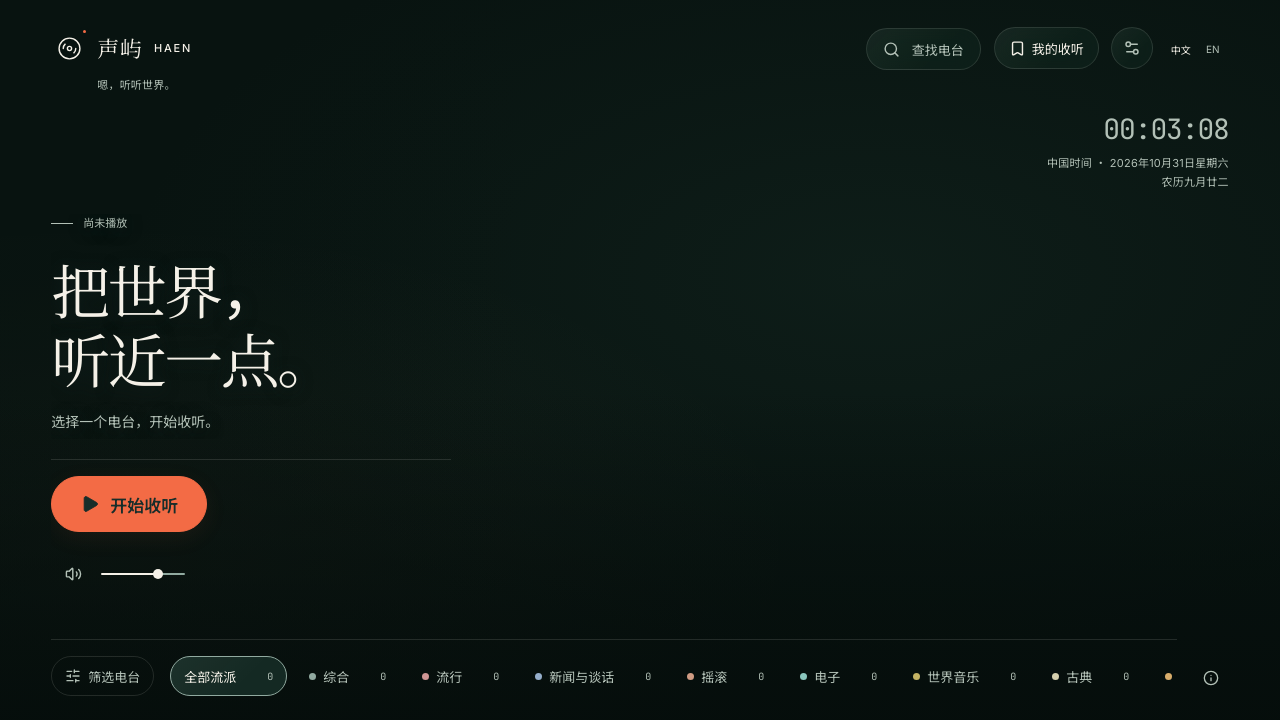
Test case: radio application entry › survives strict lifecycle replay, loads stations without autoplay and preserves language
Click the button "查找电台" at x=923, y=49, box [866,28,981,70]
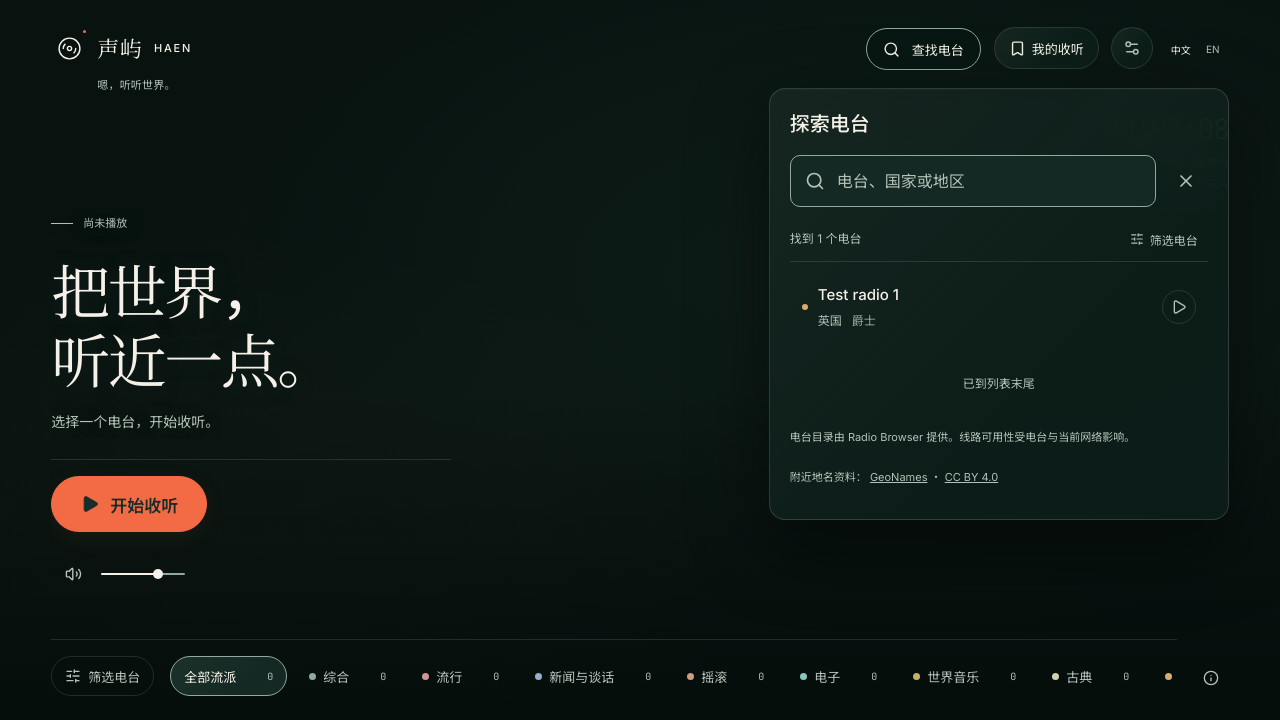
expect the message reads "尚未播放": met, box [83,216,127,230]
expect the button with aria-label "收听 Test radio 1 英国 爵士" is shown: met, box [790,266,1208,348]
Click the button named "关闭面板" at x=1186, y=181, box [1164,159,1208,203]
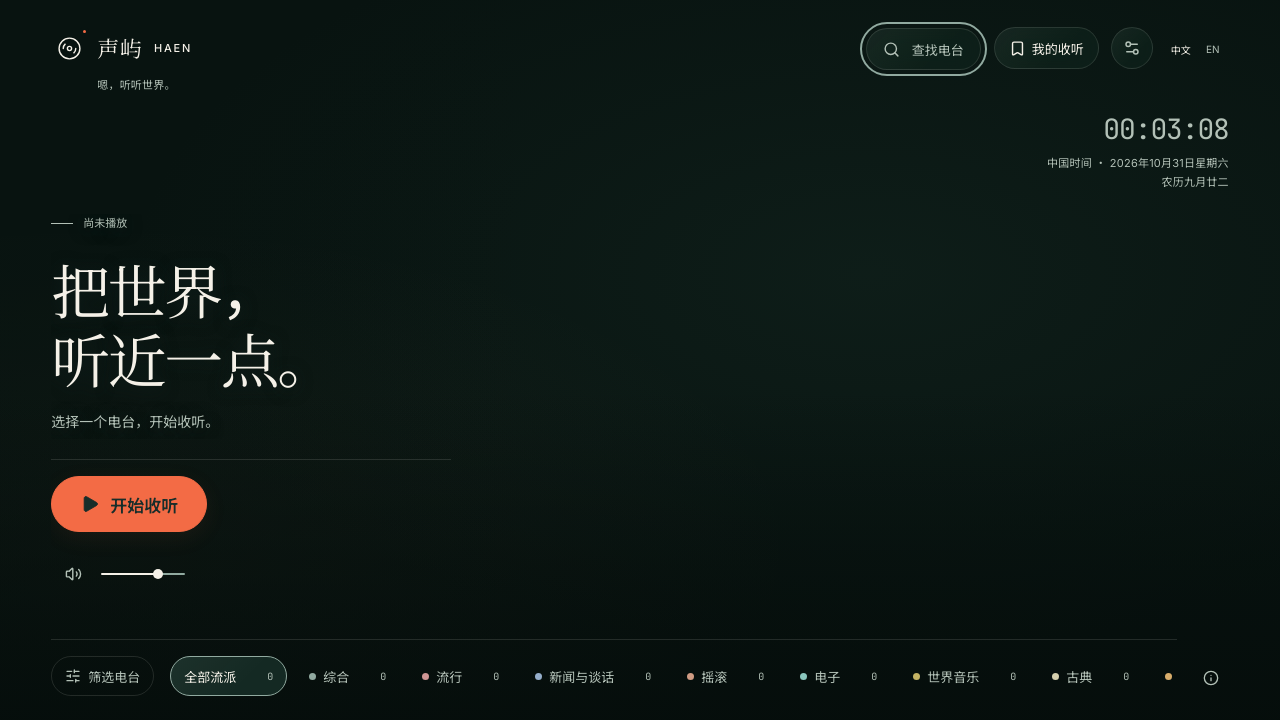
Click the button "EN" at x=1213, y=49, box [1197,27,1229,71]
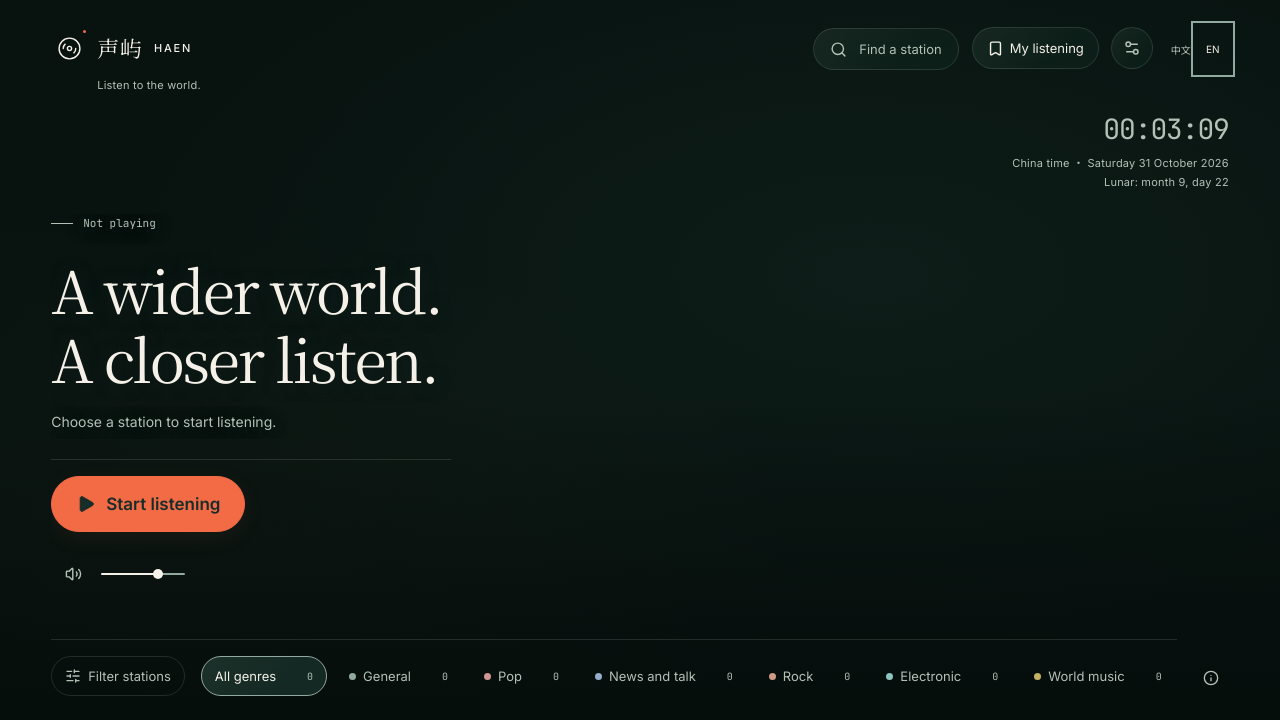
Click the button "Find a station" at x=886, y=49, box [813,28,959,70]
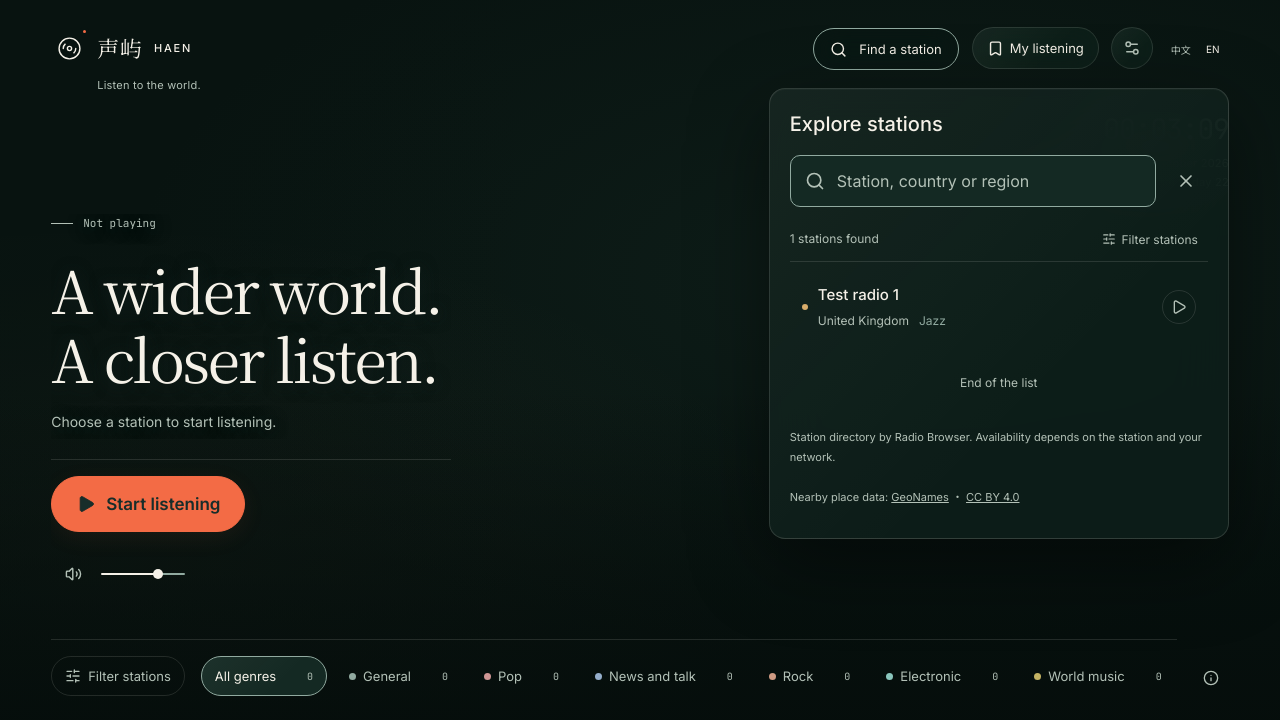
expect the heading "A wider world. A closer listen." is shown: met, box [51,254,451,393]
expect the button with aria-label "Listen to Test radio 1 United Kingdom Jazz" is shown: met, box [790,266,1208,348]
